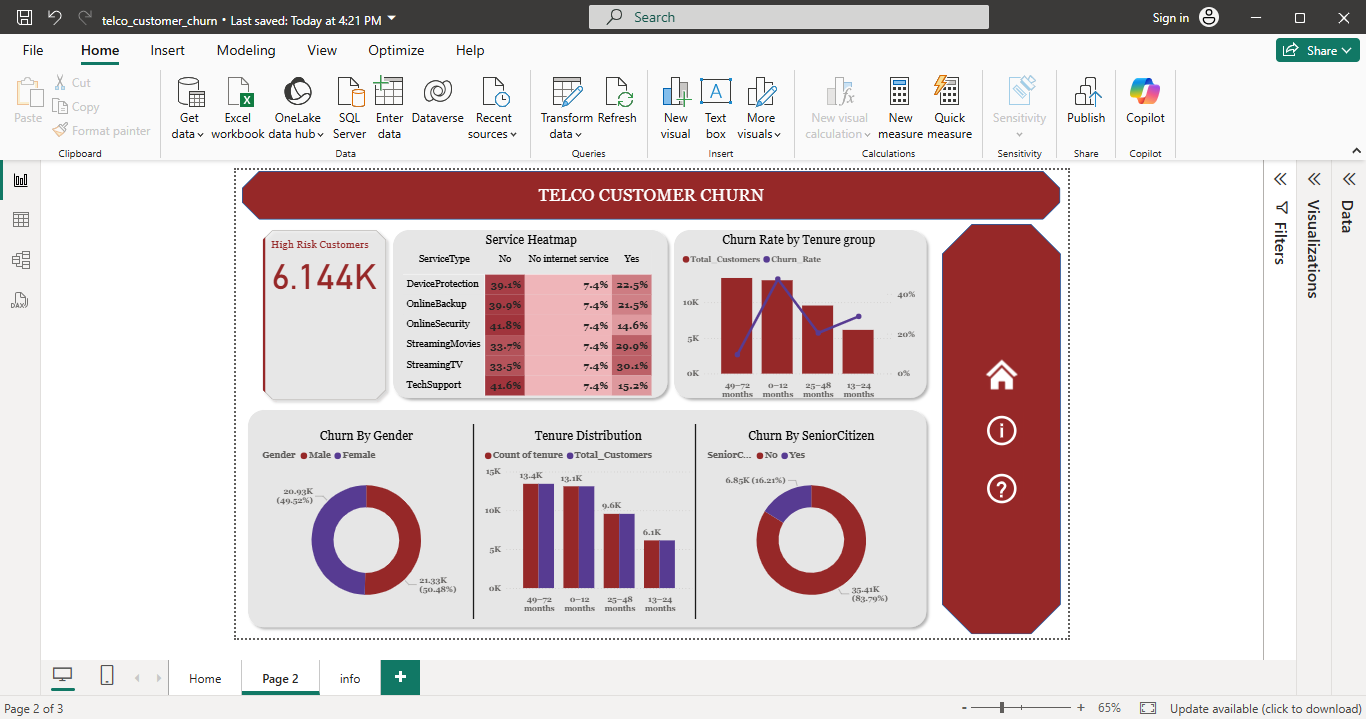

The page's visual inventory and layout, read from the dashboard file:
{"tool":"powerbi","page":{"name":"Page 2","canvas":[1280,720],"ordinal":1},"visuals":[{"type":"shape","box":[9.5,1.6,1258.7,74.6],"z":0},{"type":"shape","box":[9.5,360.3,1061.9,352.4],"z":1000},{"type":"shape","box":[1085.9,82.8,182.8,631.2],"z":2000},{"type":"donutChart","title":"Churn By Gender","fields":{"Y":["CountNonNull(telco_customer_churn.Churn)"],"Category":["telco_customer_churn.gender"]},"box":[34.9,398.4,330.2,292.1],"z":3000},{"type":"donutChart","title":"Churn By SeniorCitizen","fields":{"Y":["CountNonNull(telco_customer_churn.Churn)"],"Category":["telco_customer_churn.SeniorCitizen"]},"box":[720.6,398.4,330.2,292.1],"z":4000},{"type":"clusteredColumnChart","title":"Tenure Distribution","fields":{"Y":["CountNonNull(telco_customer_churn.tenure)","telco_customer_churn.Total_Customers"],"Category":["telco_customer_churn.Tenure group"]},"box":[376.2,398.4,330.2,292.1],"z":5000},{"type":"shape","box":[232.7,83.4,440.5,276.6],"z":6000},{"type":"pivotTable","title":"Service Heatmap","fields":{"Rows":["telco_customer_churn.ServiceType"],"Values":["telco_customer_churn.Churn_Rate"],"Columns":["telco_customer_churn.ServiceOption"]},"box":[251.7,96.6,403.9,263.4],"z":7000},{"type":"shape","box":[665,83.3,406.7,276.7],"z":8000},{"type":"lineStackedColumnComboChart","title":"Churn Rate by Tenure group","fields":{"Category":["telco_customer_churn.Tenure group"],"Y2":["telco_customer_churn.Churn_Rate"],"Y":["telco_customer_churn.Total_Customers"]},"box":[681.7,96.7,368.3,263.3],"z":9000},{"type":"shape","box":[339.7,390.5,50.8,300],"z":10000},{"type":"shape","box":[681,390.5,50.8,300],"z":11000},{"type":"cardVisual","fields":{"Data":["telco_customer_churn.High Risk Customers"]},"box":[0,76.1,463.9,295.6],"z":12000},{"type":"actionButton","box":[1144.4,461,67.3,57.1],"z":13000},{"type":"actionButton","box":[1144.4,286.8,67.3,57.1],"z":14000},{"type":"actionButton","box":[1144.4,371.7,67.3,57.1],"z":15000}]}

Visuals, with their boxes on the page's 1280x720 design canvas (x1, y1, x2, y2). These are canvas units, not pixel positions in the 1366x719 screenshot, which may show the page scaled, cropped or inside an application window:
shape: <region>10, 2, 1268, 76</region>
shape: <region>10, 360, 1071, 713</region>
shape: <region>1086, 83, 1269, 714</region>
"Churn By Gender" donutChart: <region>35, 398, 365, 690</region>
"Churn By SeniorCitizen" donutChart: <region>721, 398, 1051, 690</region>
"Tenure Distribution" clusteredColumnChart: <region>376, 398, 706, 690</region>
shape: <region>233, 83, 673, 360</region>
"Service Heatmap" pivotTable: <region>252, 97, 656, 360</region>
shape: <region>665, 83, 1072, 360</region>
"Churn Rate by Tenure group" lineStackedColumnComboChart: <region>682, 97, 1050, 360</region>
shape: <region>340, 390, 390, 690</region>
shape: <region>681, 390, 732, 690</region>
cardVisual - telco_customer_churn.High Risk Customers: <region>0, 76, 464, 372</region>
actionButton: <region>1144, 461, 1212, 518</region>
actionButton: <region>1144, 287, 1212, 344</region>
actionButton: <region>1144, 372, 1212, 429</region>
